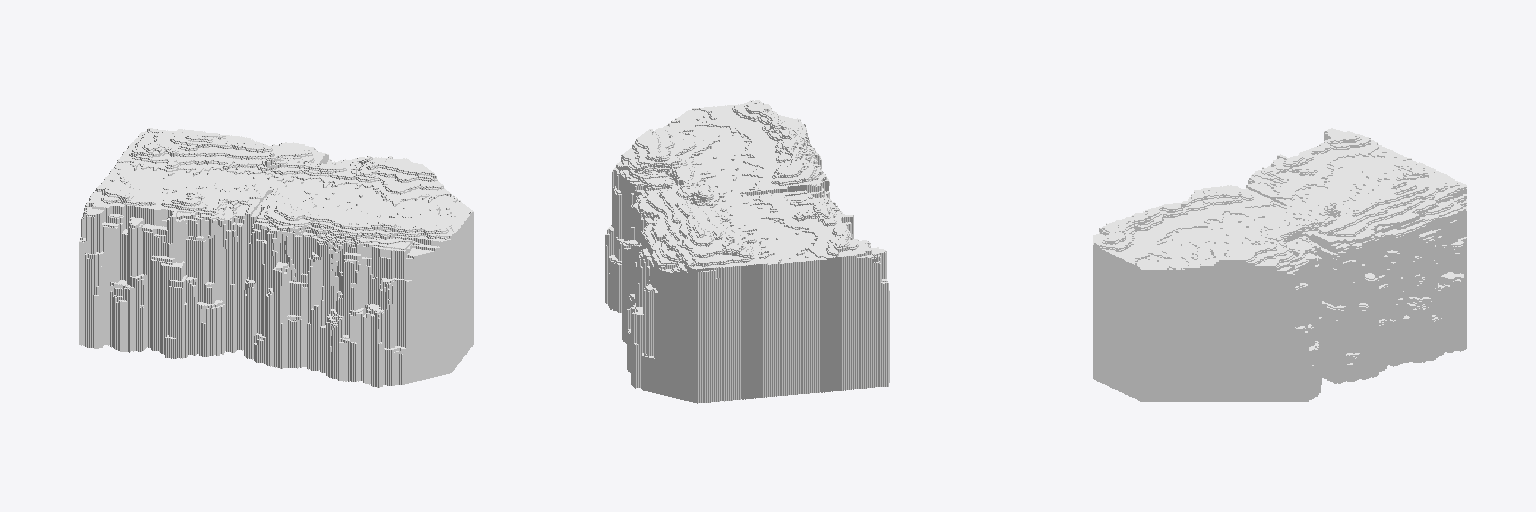
Rendered from Cubeland-25.obj.
3 views of the same model, side by side, from view 1: azimuth 30°, elevation 25°; view 2: azimuth 150°, elevation 25°; view 3: azimuth 270°, elevation 25° (orthographic).
Parts seen in each view (by area): view 1: object 1; view 2: object 1; view 3: object 1.
Boxes of the visible parts, <box> form: object 1: <box>79,128,473,387</box>; object 1: <box>605,100,889,403</box>; object 1: <box>1093,128,1466,401</box>.
Bounding box in the file's own units: 23.5 × 11.1 × 25.6.